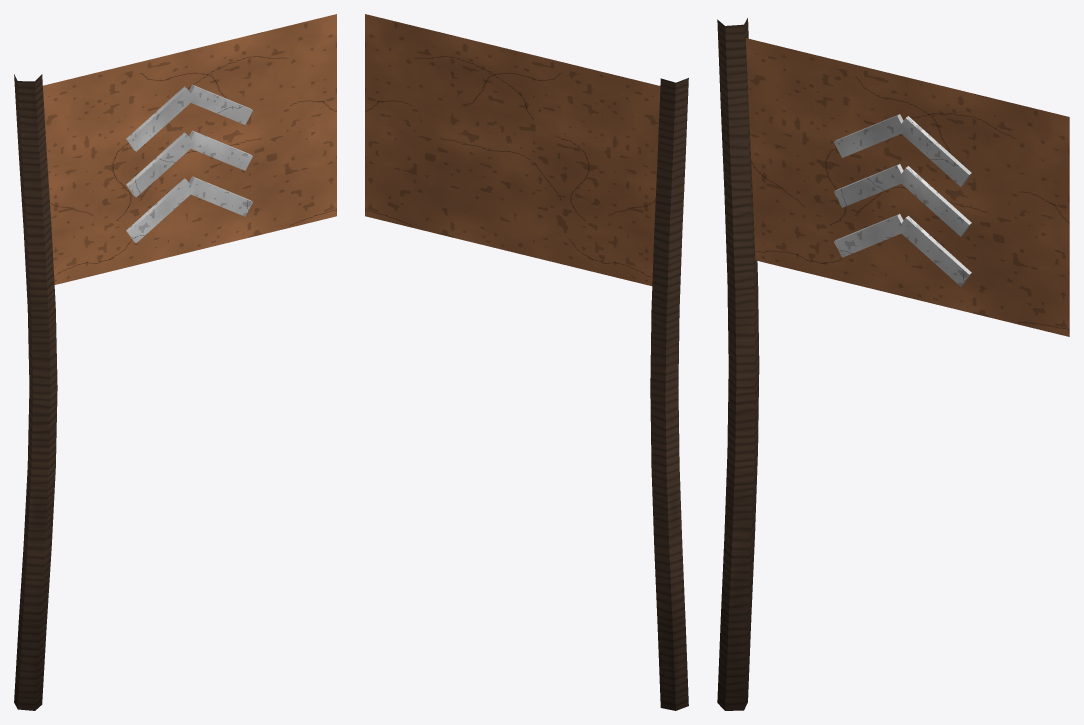
File: flag_colonie.glb
3 views of the same model, side by side, from view 1: azimuth 30°, elevation 25°; view 2: azimuth 150°, elevation 25°; view 3: azimuth 330°, elevation 25° (orthographic). The views are drawn at different scales.
Parts seen in each view (by area): view 1: flag_colonie, group_2; view 2: flag_colonie; view 3: flag_colonie, group_2.
Part boxes in pixels (x1,y1,x2,y2): flag_colonie: [14, 14, 336, 710]; group_2: [126, 84, 252, 243]; flag_colonie: [365, 14, 688, 710]; flag_colonie: [717, 18, 1069, 710]; group_2: [834, 114, 971, 286].
Bounding box in the file's own units: 7.49 × 14.03 × 0.6427.
Materials: 3 (3 with a texture image).
